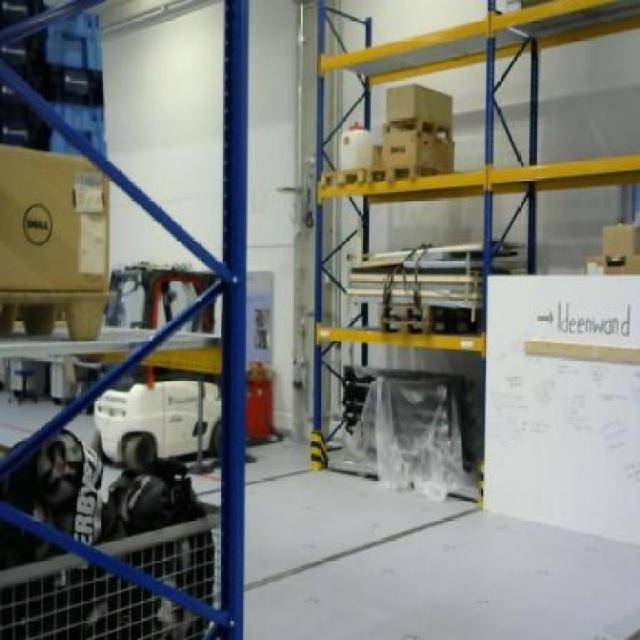box: (1, 145, 110, 290), (378, 128, 458, 177), (382, 82, 456, 130), (602, 224, 640, 258)
